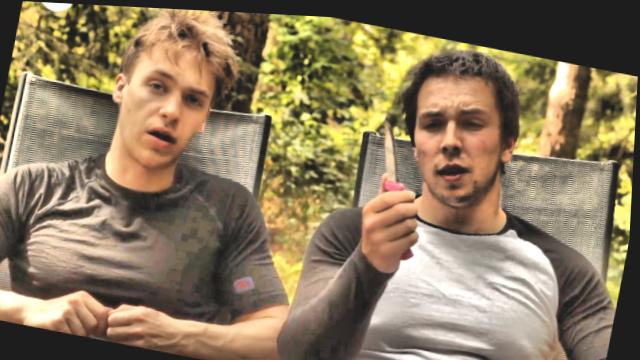knife: (356, 105, 443, 262)
